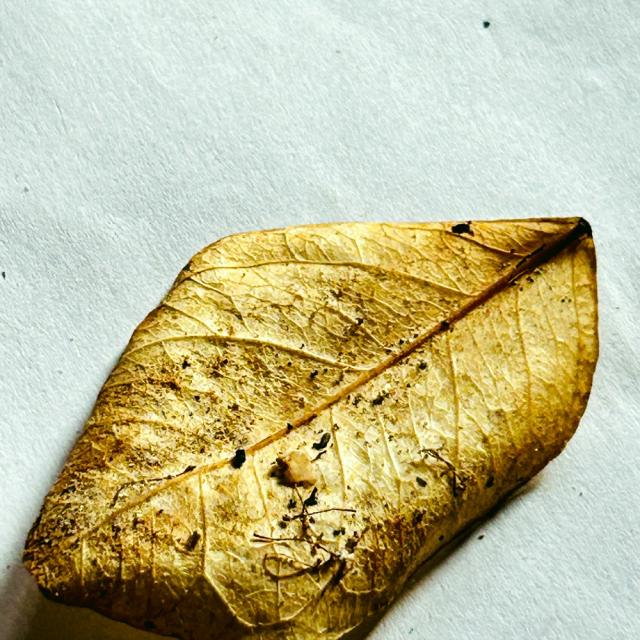DryLeaf_Lemon: (24, 217, 598, 639)
